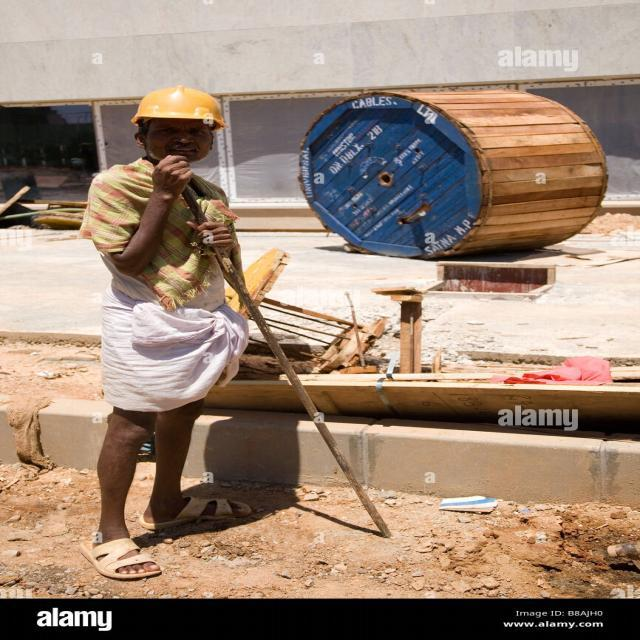safety_helmet: (127, 82, 227, 126)
